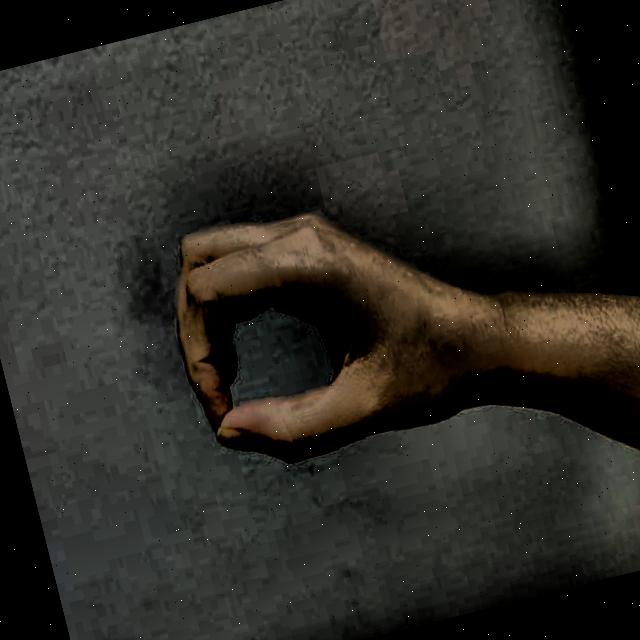O: (136, 148, 493, 512)
